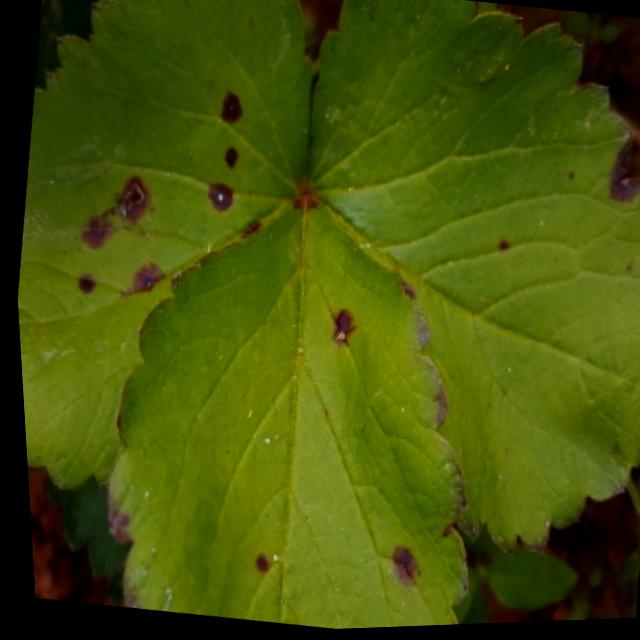Leaf Spot: (302, 0, 640, 560), (101, 188, 465, 631), (14, 0, 314, 493)
